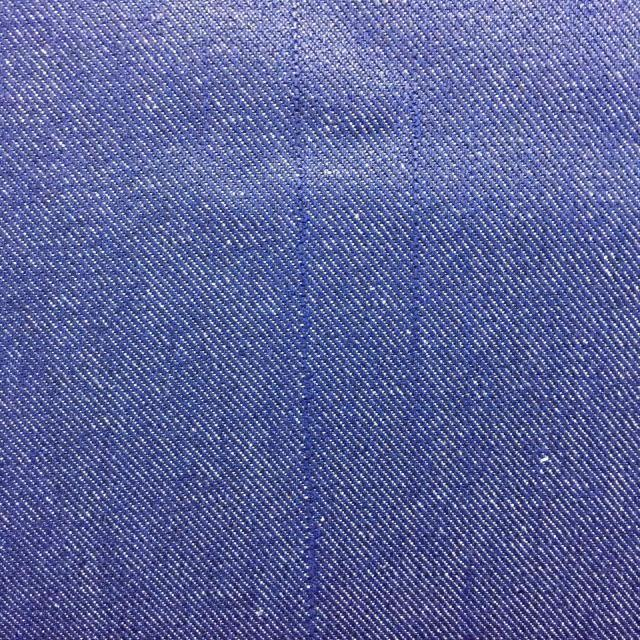Line: (287, 0, 325, 635), (460, 225, 479, 640), (404, 89, 422, 404)
